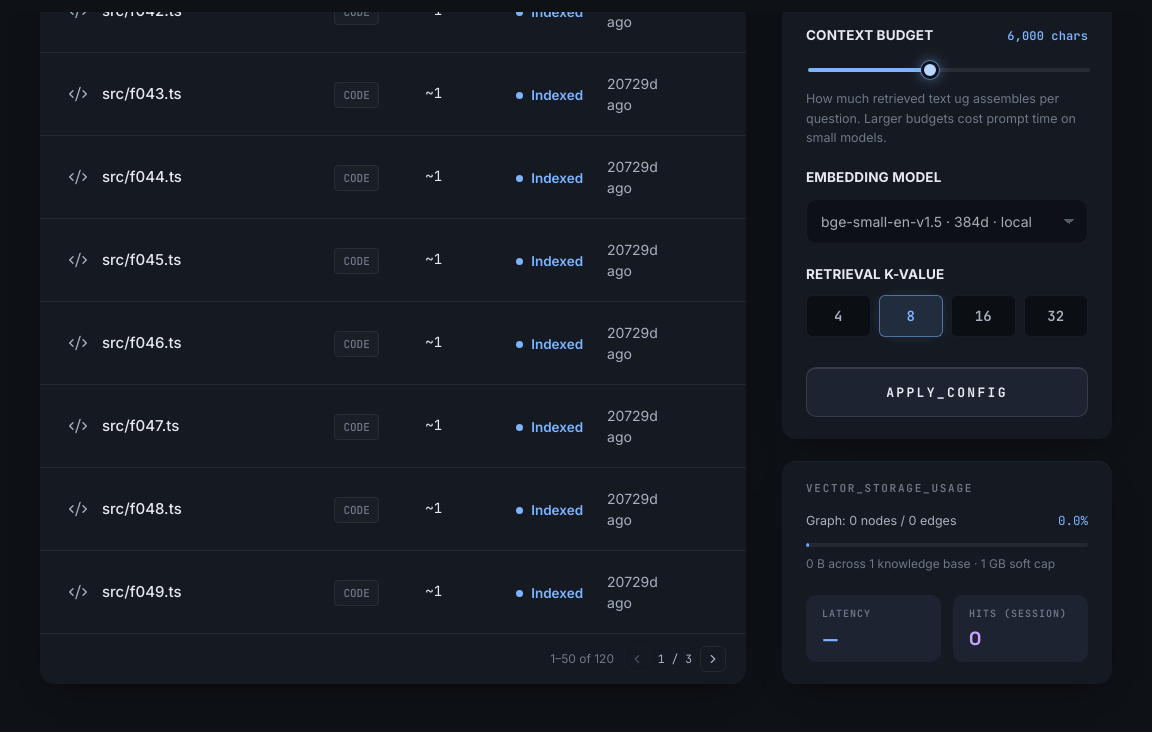
Test: long lists page › pages a large source list, 50 files at a time
(page scrolled)
Expected: the text "1–50 of 120" is shown, x1=550 y1=650 x2=614 y2=668
Expected: the button with aria-label "View src/f049.ts" is shown, x1=68 y1=581 x2=182 y2=603
Click the button named "Next page".
click(713, 659)  # box x1=700 y1=646 x2=726 y2=672
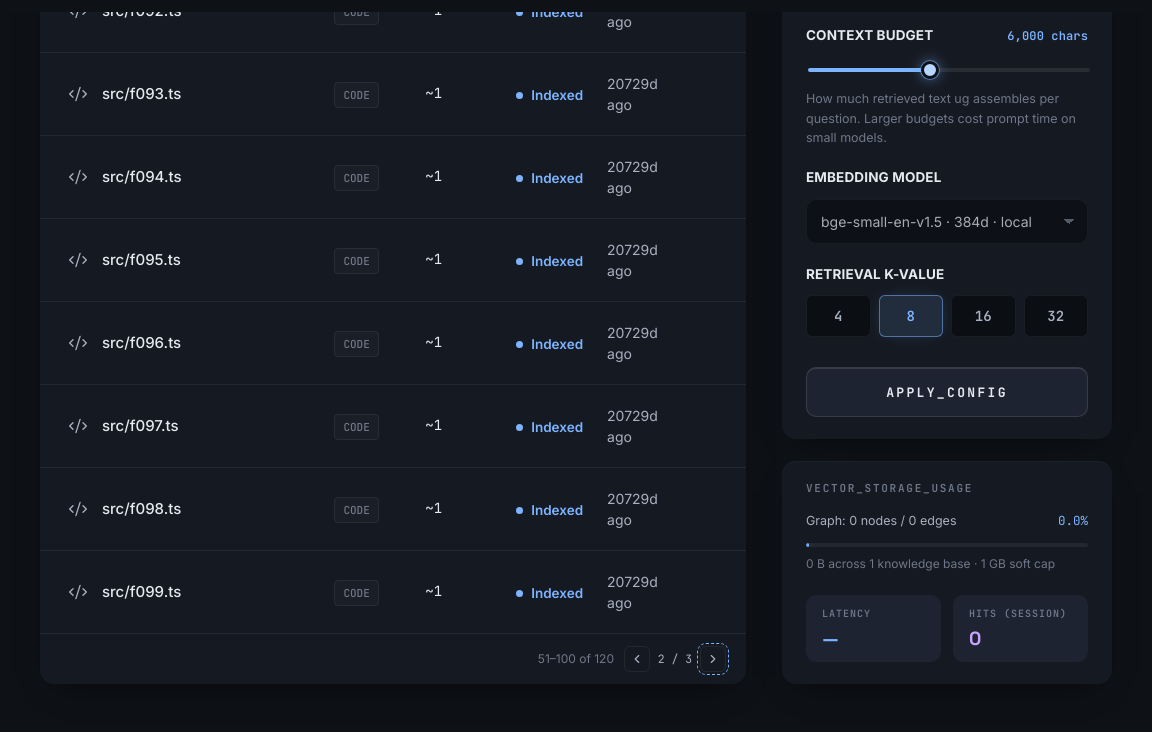
Result: the text "51–100 of 120" is shown at x1=538 y1=650 x2=614 y2=668
